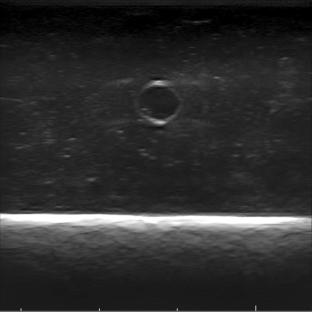vessel: (134, 79, 182, 126)
